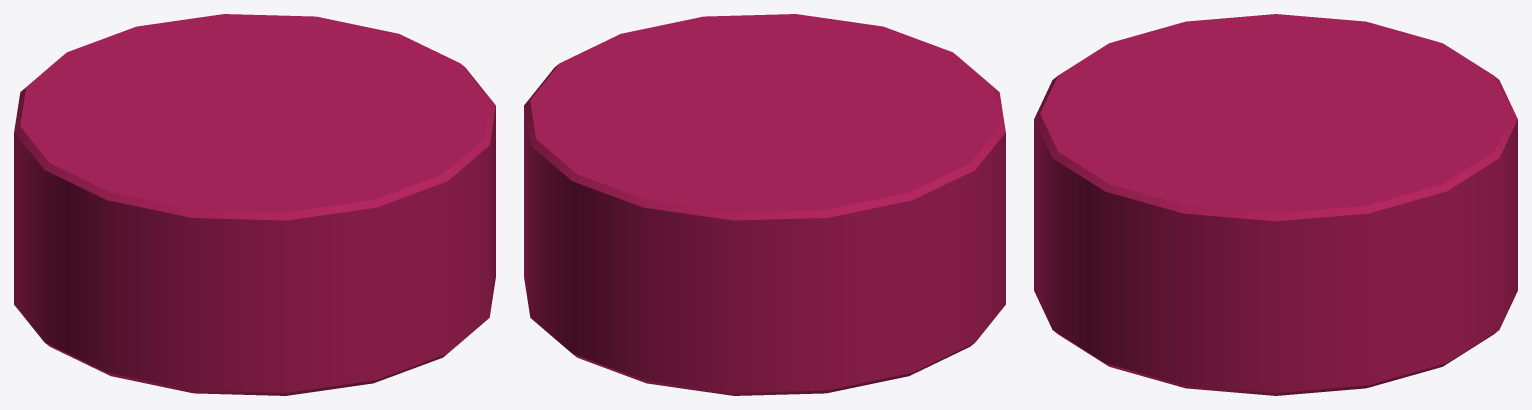
Rendered from Part_D2X2_simple.FBX.
3 views of the same model, side by side, from view 1: azimuth 30°, elevation 25°; view 2: azimuth 150°, elevation 25°; view 3: azimuth 270°, elevation 25° (orthographic).
Parts seen in each view (by area): view 1: Part_D2X2_simple; view 2: Part_D2X2_simple; view 3: Part_D2X2_simple.
Part boxes in pixels (<box>): Part_D2X2_simple: <box>14,14,495,395</box>; Part_D2X2_simple: <box>524,14,1005,395</box>; Part_D2X2_simple: <box>1034,14,1517,395</box>.
Size of the model in its own units: 240 by 100 by 240.
